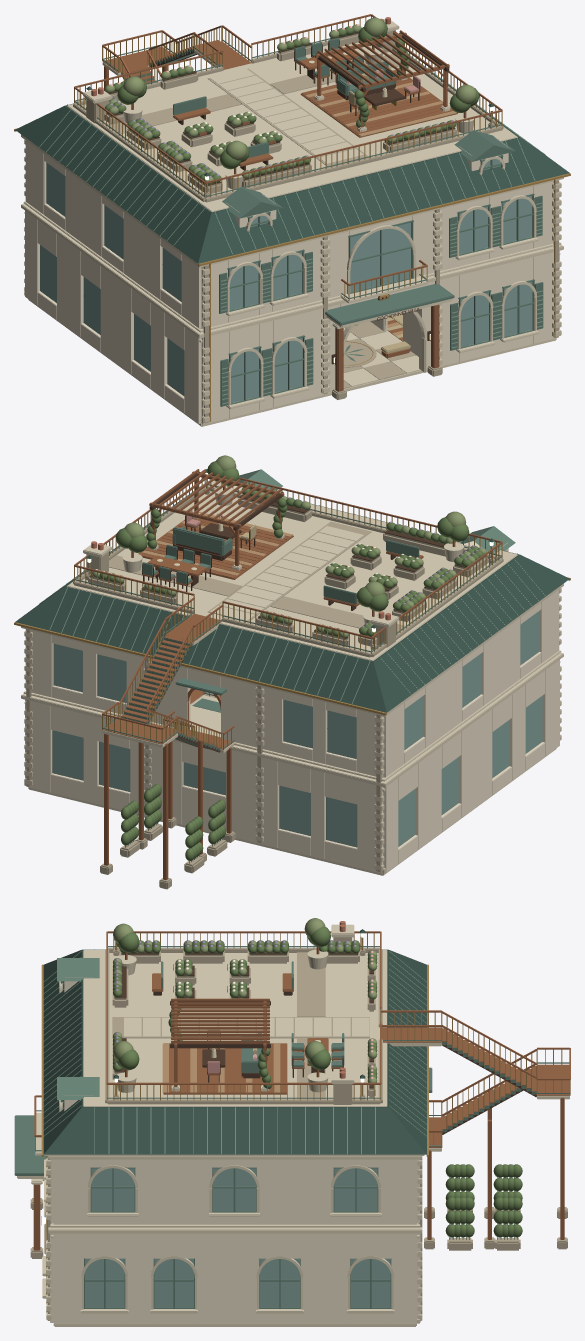
The model's file is villa.glb.
The picture shows the model from 3 angles, top to bottom: view 1: azimuth 30°, elevation 25°; view 2: azimuth 150°, elevation 25°; view 3: azimuth 270°, elevation 25°; orthographic projection. The views are drawn at different scales.
Bounding box in the file's own units: 27.21 × 17.31 × 33.71.
